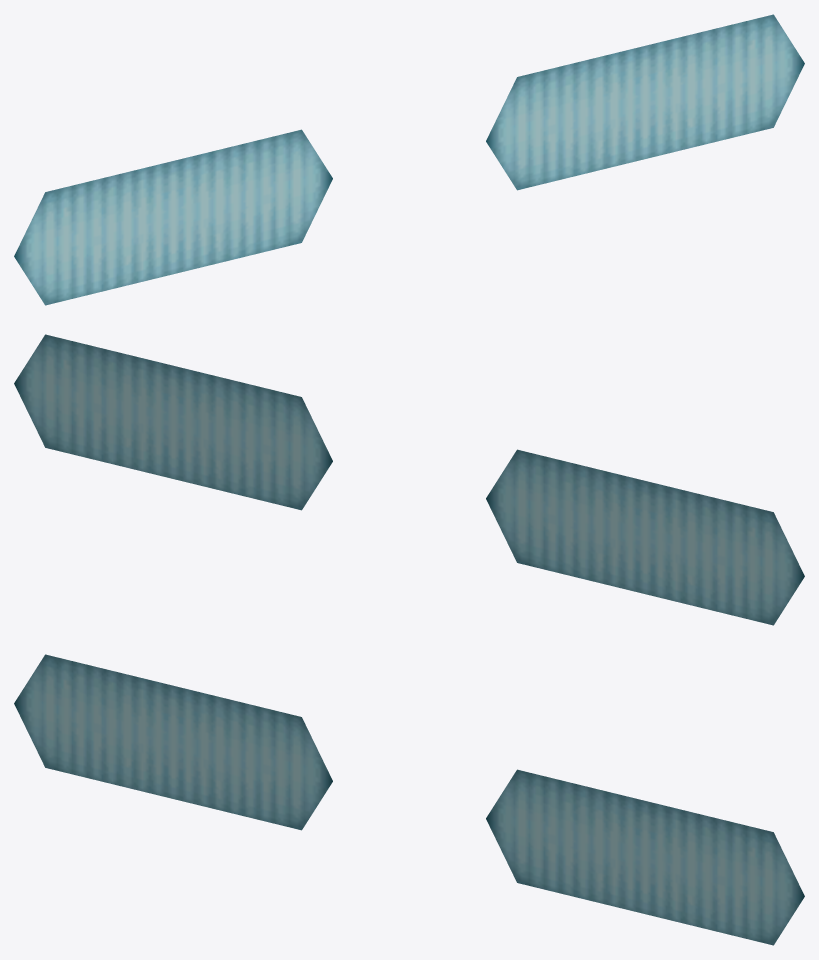
File: ykl37r_engine_s02_on_l2.fbx
3 renders of one model, top to bottom at view 1: azimuth 30°, elevation 25°; view 2: azimuth 150°, elevation 25°; view 3: azimuth 330°, elevation 25°, orthographic.
Parts seen in each view (by area): view 1: mesh_node; view 2: mesh_node; view 3: mesh_node.
Boxes of the visible parts, left/top/right/bottom form: mesh_node: left=14, top=14, right=804, bottom=305; mesh_node: left=14, top=334, right=804, bottom=625; mesh_node: left=14, top=654, right=804, bottom=945.
Size of the model in its own units: 10.57 by 1.45 by 0.
